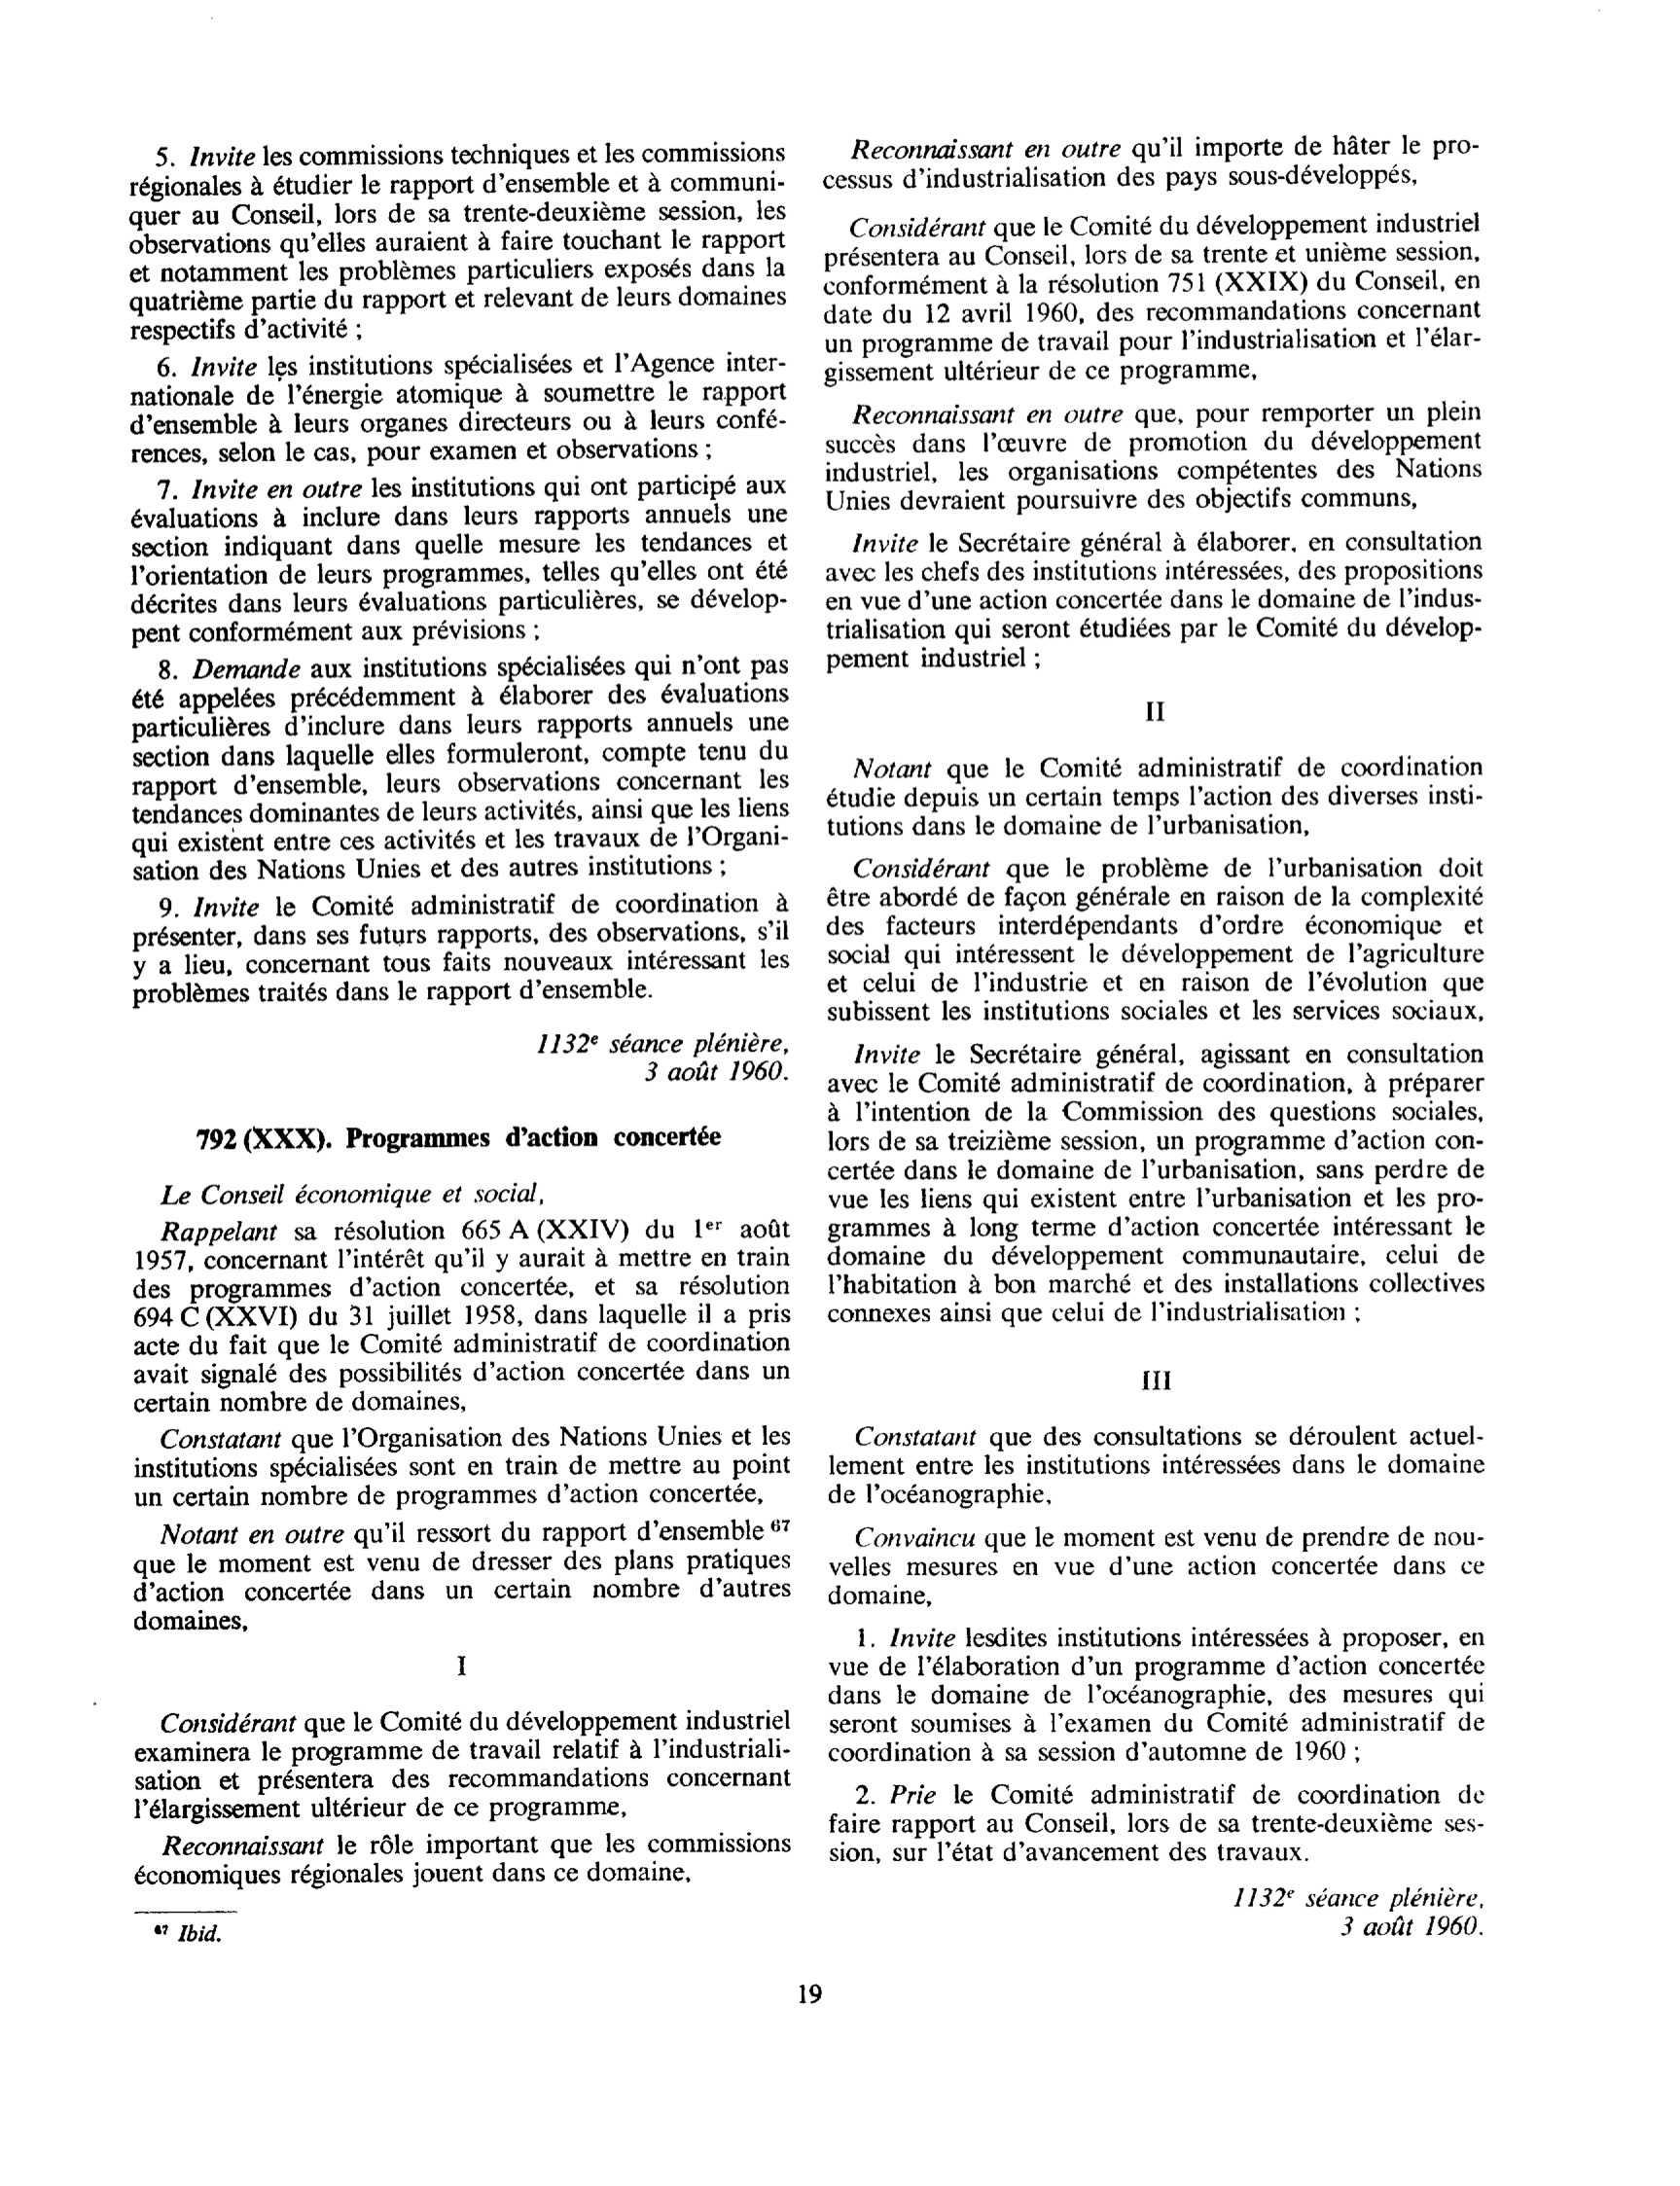MainZone-Date: (626, 1063, 786, 1091), (1338, 1915, 1493, 1942)
MainZone-Head: (182, 1117, 730, 1158), (1135, 1363, 1178, 1400), (1140, 693, 1175, 728), (449, 1651, 480, 1684)
MainZone-ListItem: (125, 653, 797, 883), (122, 134, 794, 345), (124, 471, 797, 646), (823, 1622, 1494, 1768), (125, 888, 797, 1011), (123, 349, 798, 470), (822, 1777, 1493, 1871)
MainZone-P: (821, 1036, 1490, 1334), (125, 1214, 800, 1418), (817, 208, 1488, 390), (821, 851, 1490, 1028), (820, 525, 1489, 677), (125, 1516, 798, 1638), (819, 399, 1488, 519), (127, 1705, 797, 1825), (820, 749, 1489, 844), (822, 1417, 1491, 1513), (821, 1522, 1492, 1615), (127, 1421, 799, 1513), (815, 127, 1486, 198), (128, 1828, 796, 1894), (125, 1171, 554, 1211)
MainZone-Signature: (1224, 1878, 1494, 1918), (526, 1025, 796, 1062)
MarginTextZone-Notes: (145, 1917, 230, 1953)
NumberingZone: (792, 1975, 831, 2017)
